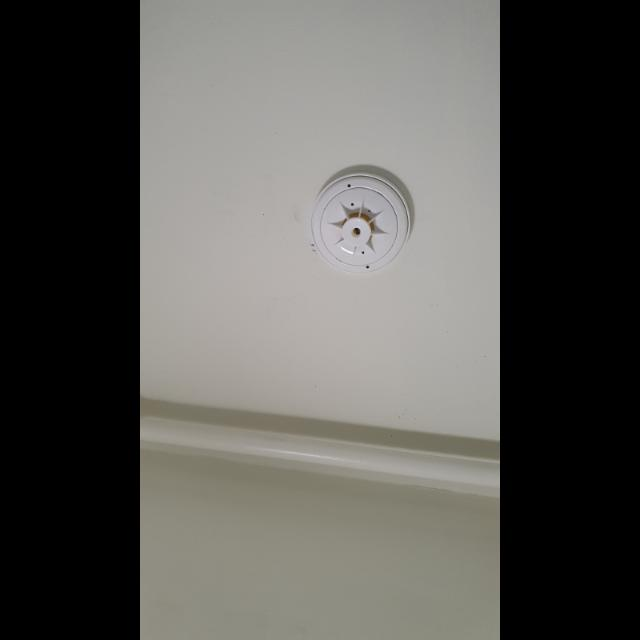Smoke-Detector: (313, 172, 411, 270)
